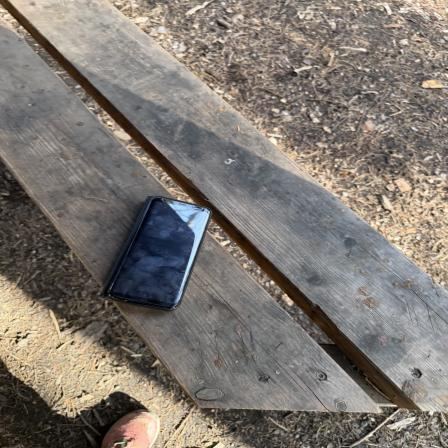phone: (102, 195, 214, 311)
